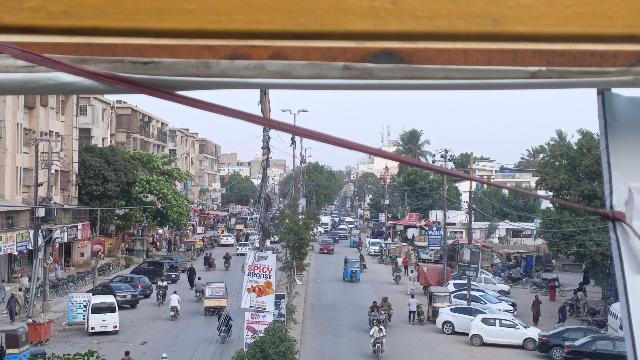Bike: (370, 336, 386, 360), (416, 301, 428, 325), (217, 325, 229, 347), (156, 287, 168, 307), (381, 306, 391, 329), (368, 311, 380, 329), (169, 305, 179, 323), (391, 271, 403, 286), (203, 260, 217, 272), (195, 289, 203, 303), (359, 261, 366, 274), (224, 260, 231, 272)
Car: (468, 310, 540, 351), (533, 324, 606, 357), (560, 334, 631, 360), (435, 302, 489, 336), (89, 281, 140, 308), (111, 268, 155, 298), (131, 258, 180, 283), (316, 238, 337, 257)
Person: (5, 290, 20, 324), (554, 297, 572, 324), (405, 291, 419, 325), (530, 293, 543, 327), (216, 305, 232, 327), (183, 262, 197, 287), (369, 319, 386, 337), (407, 270, 418, 295), (155, 275, 169, 293), (168, 289, 181, 307), (379, 295, 392, 312), (193, 276, 206, 290), (368, 300, 379, 315), (392, 261, 402, 273), (223, 250, 232, 263), (208, 251, 215, 265), (359, 252, 366, 263), (203, 251, 209, 263)
Rickshaw: (202, 280, 231, 317), (0, 323, 29, 360), (425, 285, 452, 320), (340, 254, 364, 285)
Van: (82, 295, 121, 335)
